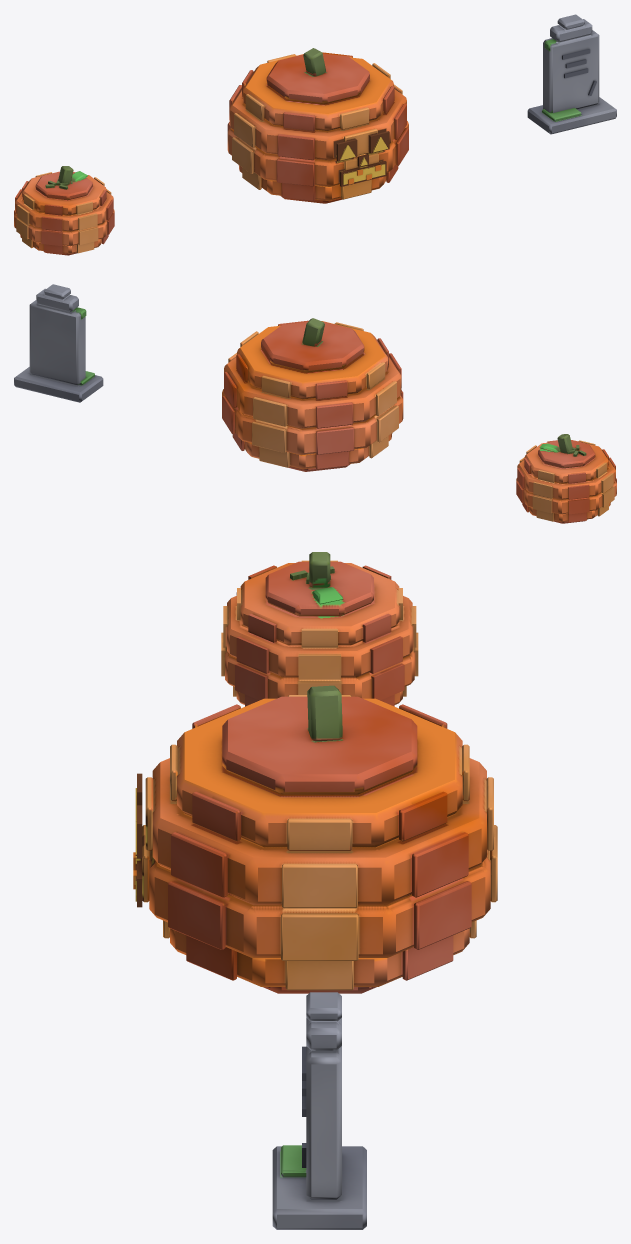
File: Objets_Halloween_Rig.fbx
3 renders of one model, top to bottom at view 1: azimuth 30°, elevation 25°; view 2: azimuth 150°, elevation 25°; view 3: azimuth 270°, elevation 25°, orthographic. The views are drawn at different scales.
Visible parts, largest first — view 1: Lanterne, Citrouille, Tombe; view 2: Lanterne, Citrouille, Tombe; view 3: Lanterne, Citrouille, Tombe.
Boxes of the visible parts, box(x1,y1,x2,y2) form: Lanterne: box(227, 48, 408, 203); Citrouille: box(14, 166, 114, 255); Tombe: box(527, 14, 616, 134); Lanterne: box(222, 318, 403, 471); Citrouille: box(516, 434, 616, 523); Tombe: box(14, 284, 103, 402); Lanterne: box(133, 685, 497, 993); Citrouille: box(221, 552, 418, 706); Tombe: box(272, 992, 366, 1229).
Size of the model in its own units: 28.27 by 6 by 7.63.
Materials: 1 (1 with a texture image).
